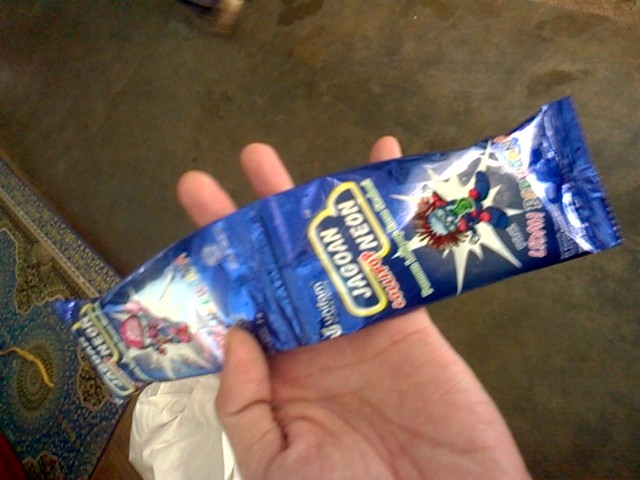jagoan neon: (244, 96, 621, 349), (56, 205, 284, 408)
